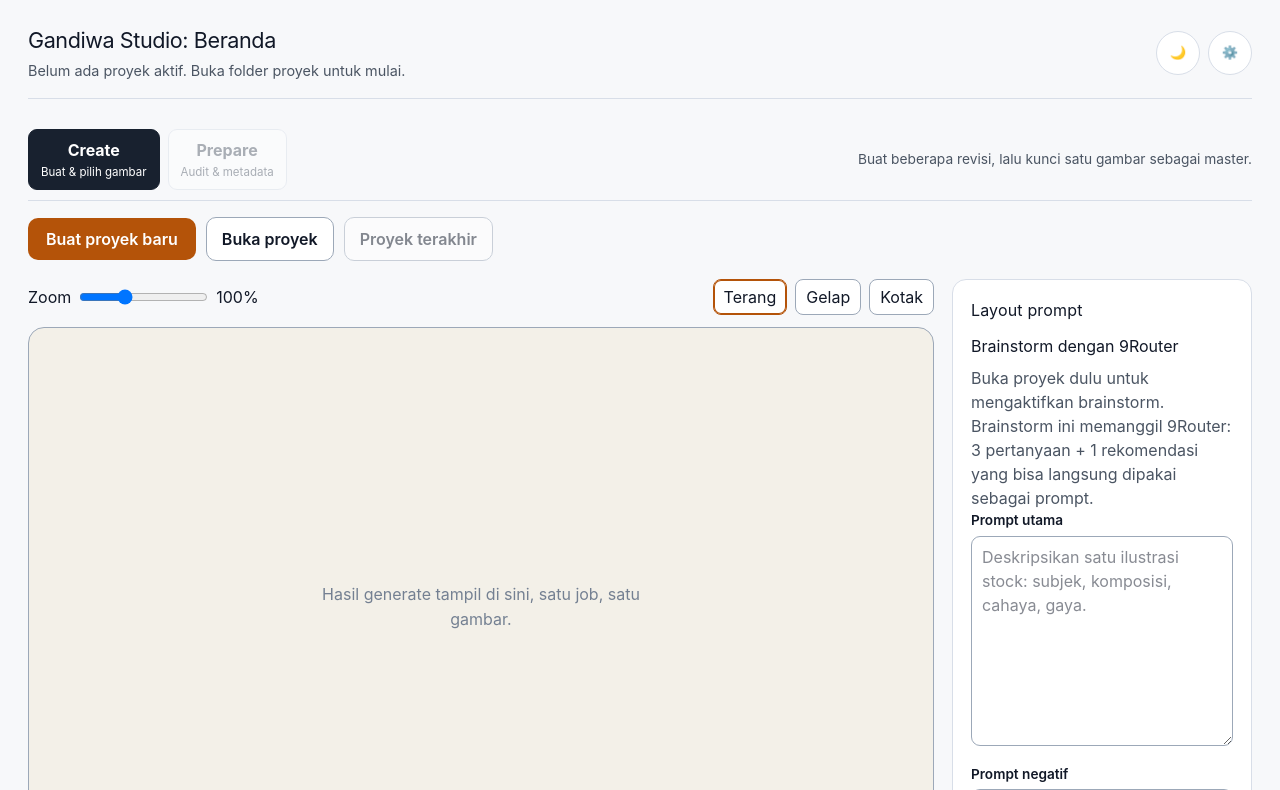
it: Beranda — mode malam / siang › flips to night on click, relabels, and persists the choice
The width and height of the screenshot is (1280, 790).
Click the button named "Mode malam" at (1178, 53), box [1156,31,1200,75]
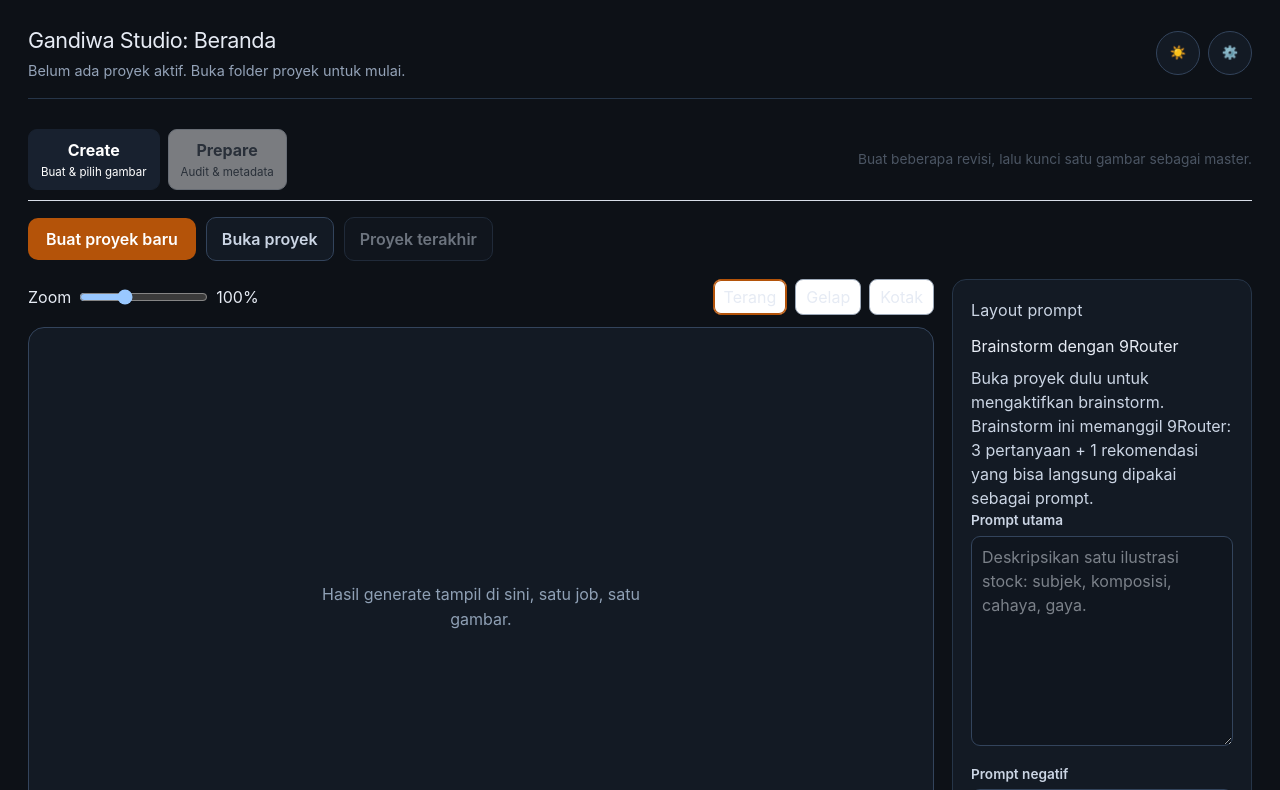
Now the button named "Mode siang" is shown, box [1156,31,1200,75]
